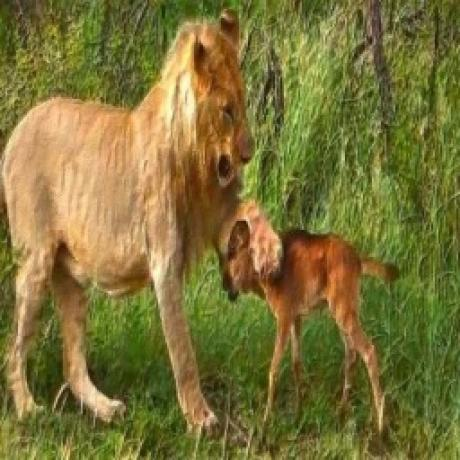Lion: (0, 5, 284, 434)
